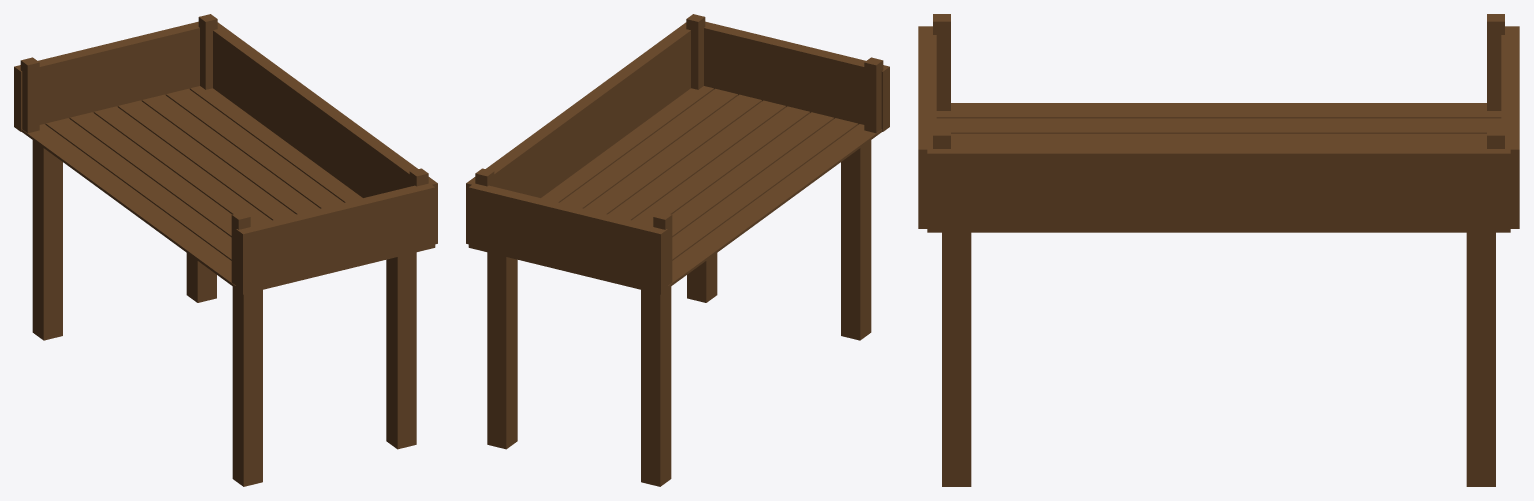
The model's file is wooden_dock.glb.
3 views of the same model, side by side, from view 1: azimuth 30°, elevation 25°; view 2: azimuth 150°, elevation 25°; view 3: azimuth 270°, elevation 25° (orthographic). The views are drawn at different scales.
Visible parts, largest first — view 1: wooden_dock; view 2: wooden_dock; view 3: wooden_dock.
Boxes of the visible parts, bbox=[...] form: wooden_dock: bbox=[14, 14, 437, 486]; wooden_dock: bbox=[466, 14, 889, 486]; wooden_dock: bbox=[918, 14, 1519, 486].
Bounding box in the file's own units: 4.12 × 5.4 × 8.25.
